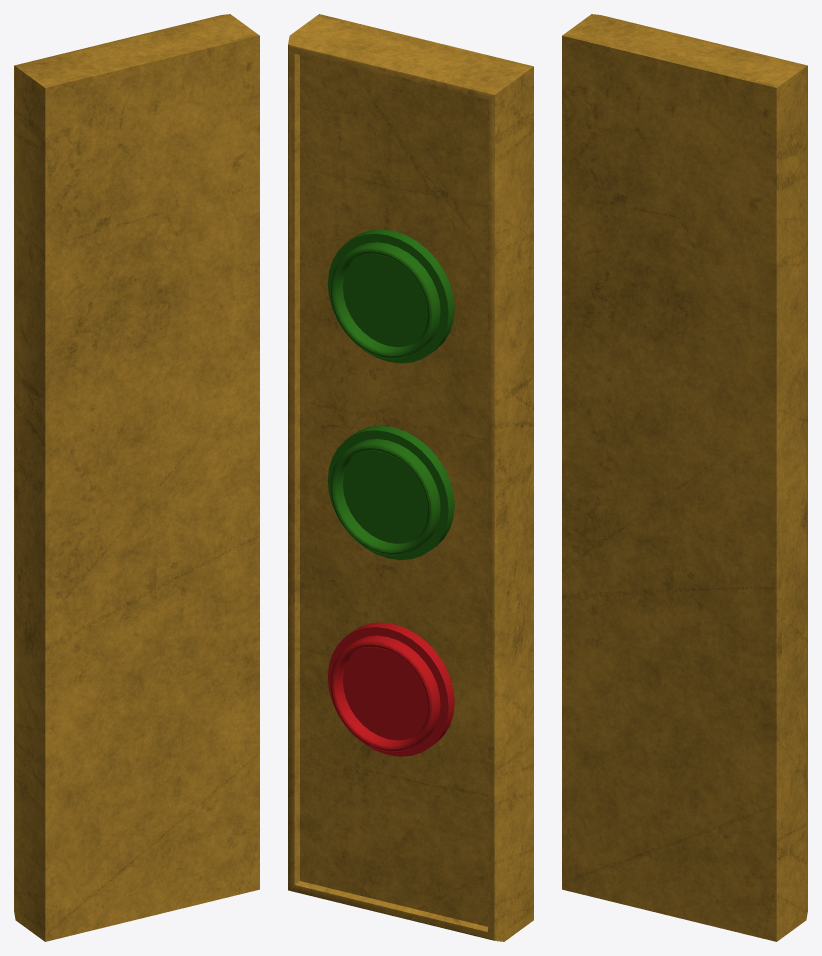
File: elev_panel.fbx
3 views of the same model, side by side, from view 1: azimuth 30°, elevation 25°; view 2: azimuth 150°, elevation 25°; view 3: azimuth 330°, elevation 25° (orthographic).
Parts seen in each view (by area): view 1: bake; view 2: bake; view 3: bake.
Part boxes in pixels (left/top/right/bottom): bake: left=14, top=14, right=259, bottom=941; bake: left=288, top=14, right=533, bottom=941; bake: left=562, top=14, right=807, bottom=941.
Bounding box in the file's own units: 11.2 × 42.56 × 4.12.
Materials: 1 (1 with a texture image).
